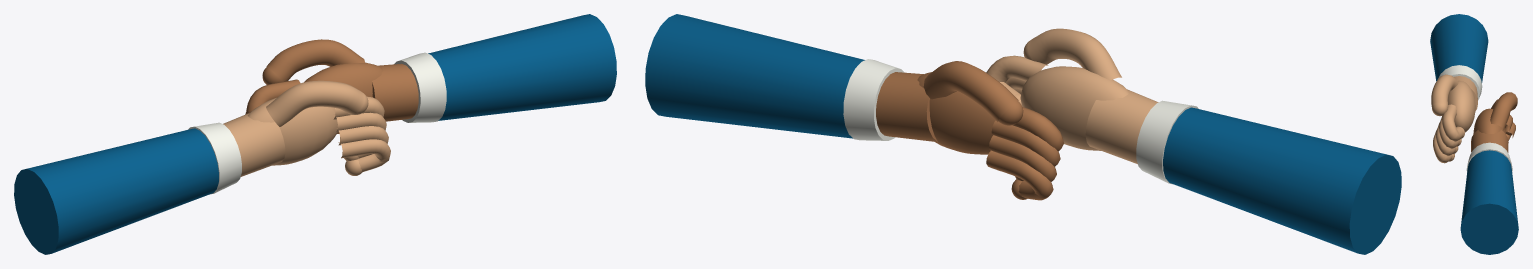
Rendered from handshake.glb.
The picture shows the model from 3 angles, left to right: view 1: azimuth 30°, elevation 25°; view 2: azimuth 150°, elevation 25°; view 3: azimuth 270°, elevation 25°; orthographic projection. The views are drawn at different scales.
Visible parts, largest first — view 1: Hand_Left_sleeve, Hand_Right_sleeve, Hand_Left_skinLeft, Hand_Right_skinRight, Hand_Right_cuff, Hand_Left_cuff; view 2: Hand_Left_sleeve, Hand_Right_sleeve, Hand_Right_skinRight, Hand_Left_skinLeft, Hand_Right_cuff, Hand_Left_cuff; view 3: Hand_Right_sleeve, Hand_Left_skinLeft, Hand_Left_sleeve, Hand_Right_skinRight, Hand_Left_cuff, Hand_Right_cuff.
Boxes of the visible parts, left/top/right/bottom form: Hand_Left_sleeve: left=14, top=128, right=218, bottom=254; Hand_Right_sleeve: left=428, top=14, right=616, bottom=120; Hand_Left_skinLeft: left=223, top=80, right=390, bottom=176; Hand_Right_skinRight: left=245, top=39, right=418, bottom=133; Hand_Right_cuff: left=394, top=52, right=446, bottom=122; Hand_Left_cuff: left=188, top=122, right=241, bottom=194; Hand_Left_sleeve: left=1163, top=107, right=1401, bottom=254; Hand_Right_sleeve: left=645, top=14, right=864, bottom=138; Hand_Right_skinRight: left=876, top=61, right=1063, bottom=200; Hand_Left_skinLeft: left=986, top=28, right=1158, bottom=164; Hand_Right_cuff: left=843, top=59, right=904, bottom=140; Hand_Left_cuff: left=1136, top=100, right=1198, bottom=184; Hand_Right_sleeve: left=1460, top=150, right=1518, bottom=254; Hand_Left_skinLeft: left=1431, top=74, right=1477, bottom=163; Hand_Left_sleeve: left=1430, top=14, right=1488, bottom=82; Hand_Right_skinRight: left=1471, top=92, right=1517, bottom=152; Hand_Left_cuff: left=1437, top=65, right=1482, bottom=100; Hand_Right_cuff: left=1466, top=142, right=1512, bottom=172.
Size of the model in its own units: 7.26 by 1.41 by 1.46.
